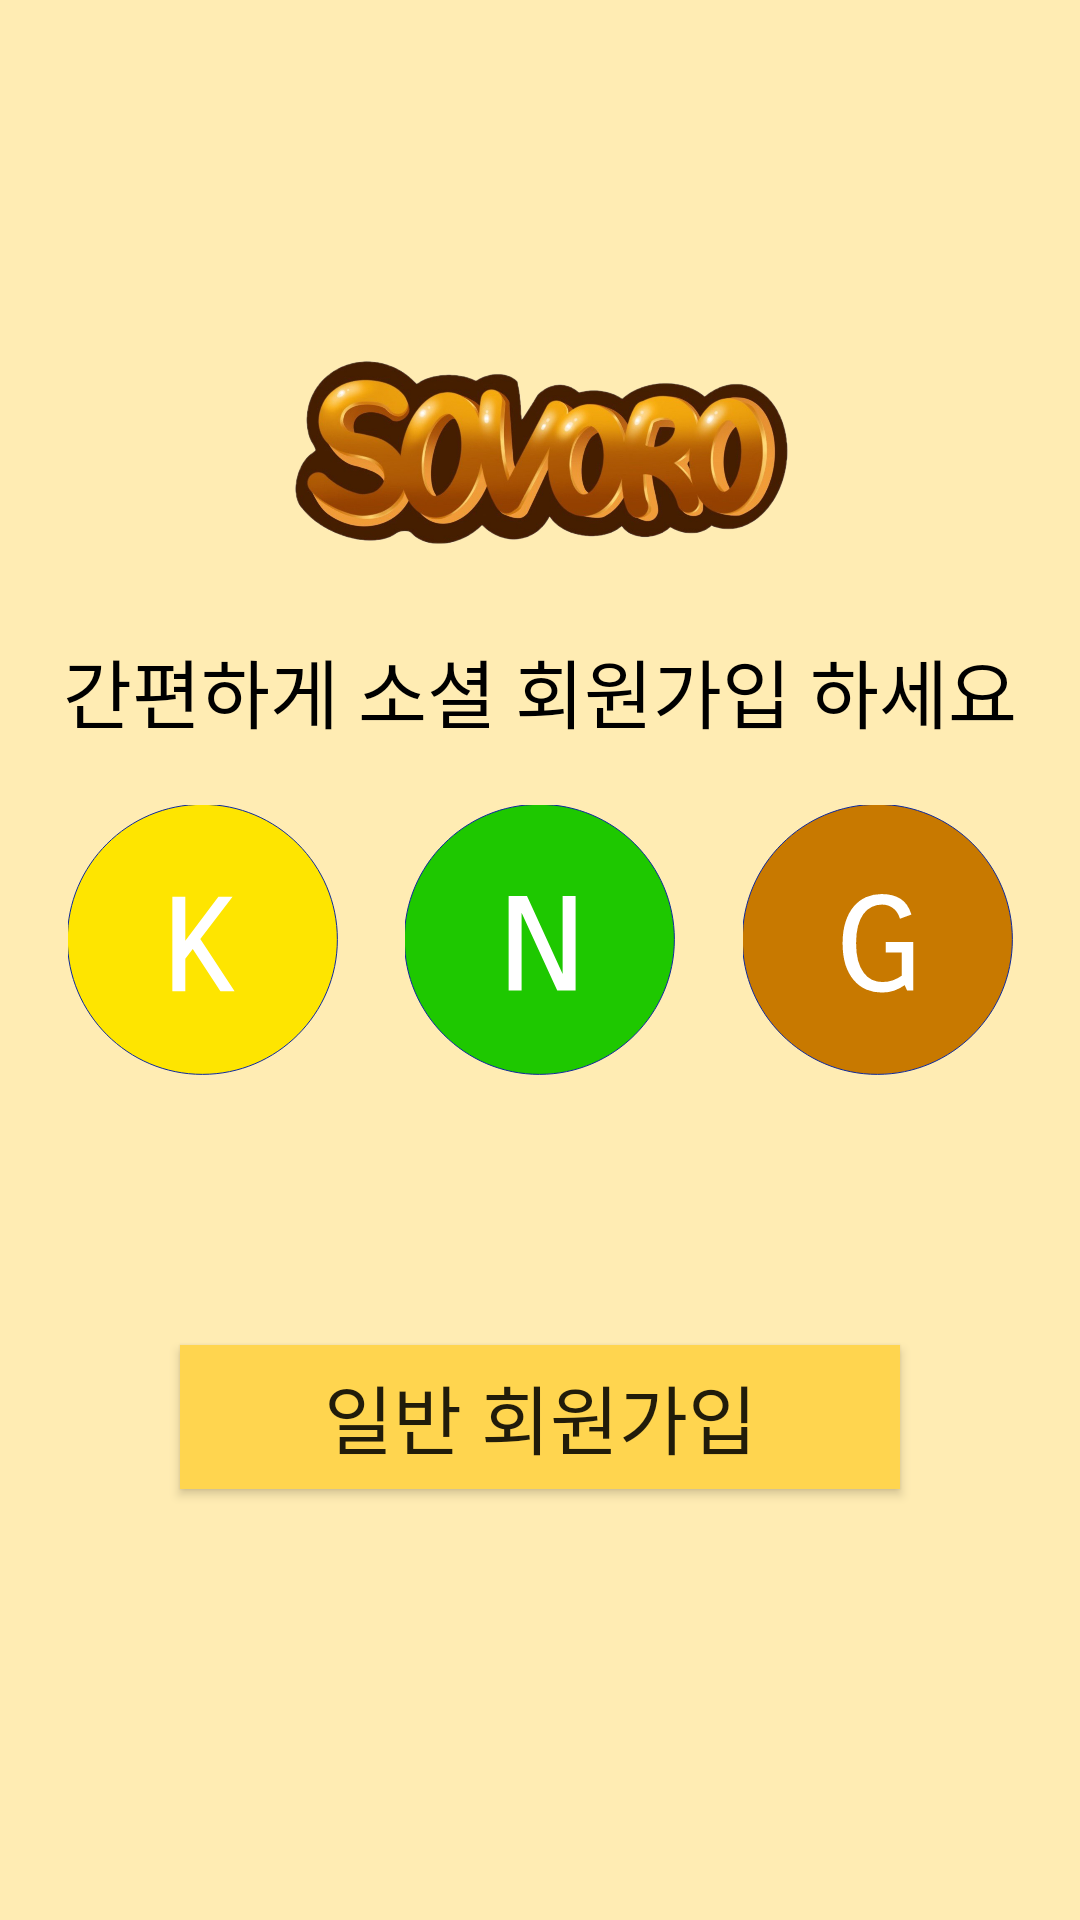

Screen size 1080px×1920px. Icon name, then its box in pixels as (x1, y1, x2, y2):
google: (743, 805, 1013, 1075)
kakao: (68, 805, 338, 1075)
naver: (405, 805, 675, 1075)
